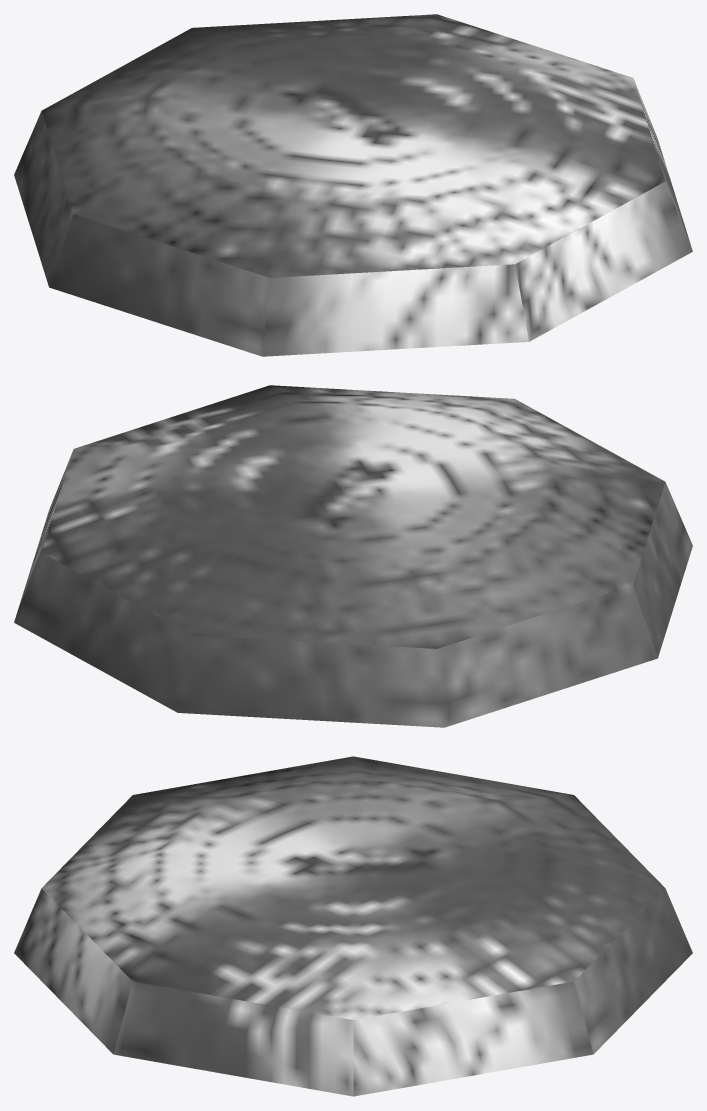
The model's file is trashcanlid.glb.
The picture shows the model from 3 angles, top to bottom: view 1: azimuth 30°, elevation 25°; view 2: azimuth 150°, elevation 25°; view 3: azimuth 270°, elevation 25°; orthographic projection. The views are drawn at different scales.
Parts seen in each view (by area): view 1: TrashCanLid; view 2: TrashCanLid; view 3: TrashCanLid.
Part boxes in pixels (<box>): TrashCanLid: <box>14,14,692,356</box>; TrashCanLid: <box>14,385,692,727</box>; TrashCanLid: <box>14,756,692,1096</box>.
Bounding box in the file's own units: 0.6615 × 0.0979 × 0.6615.
Materials: 1 (1 with a texture image).
